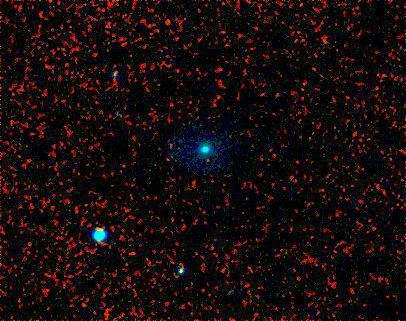star: (165, 256, 195, 286)
